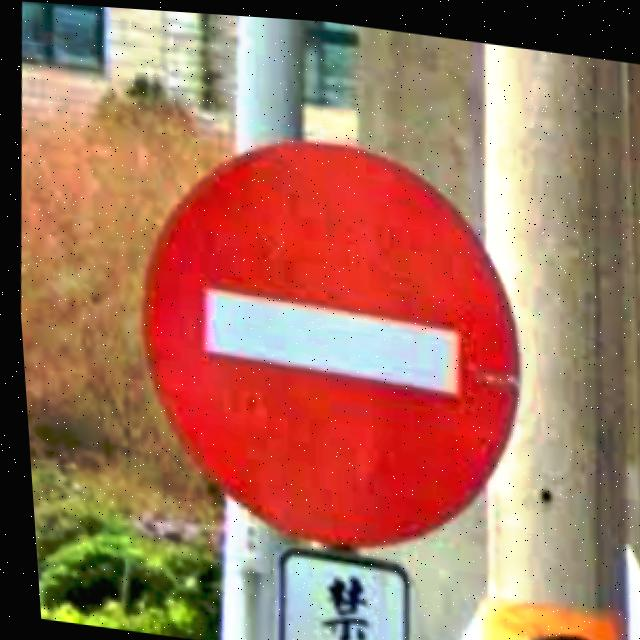noentry: (109, 108, 544, 568)
